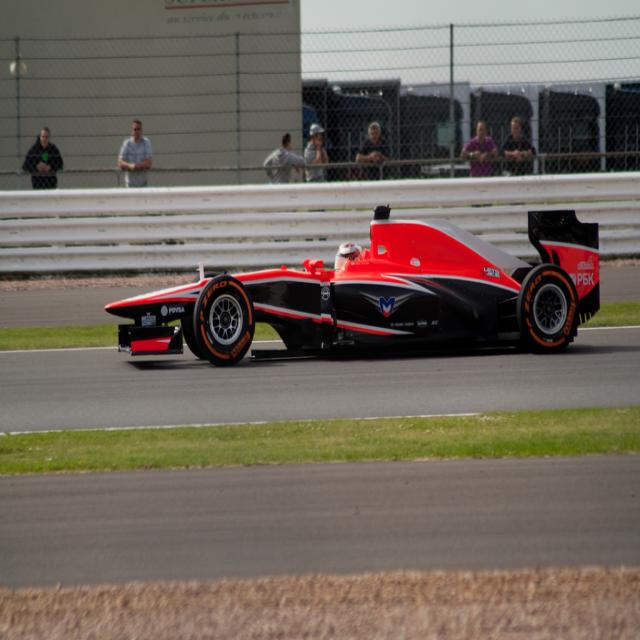car: (104, 199, 600, 365)
